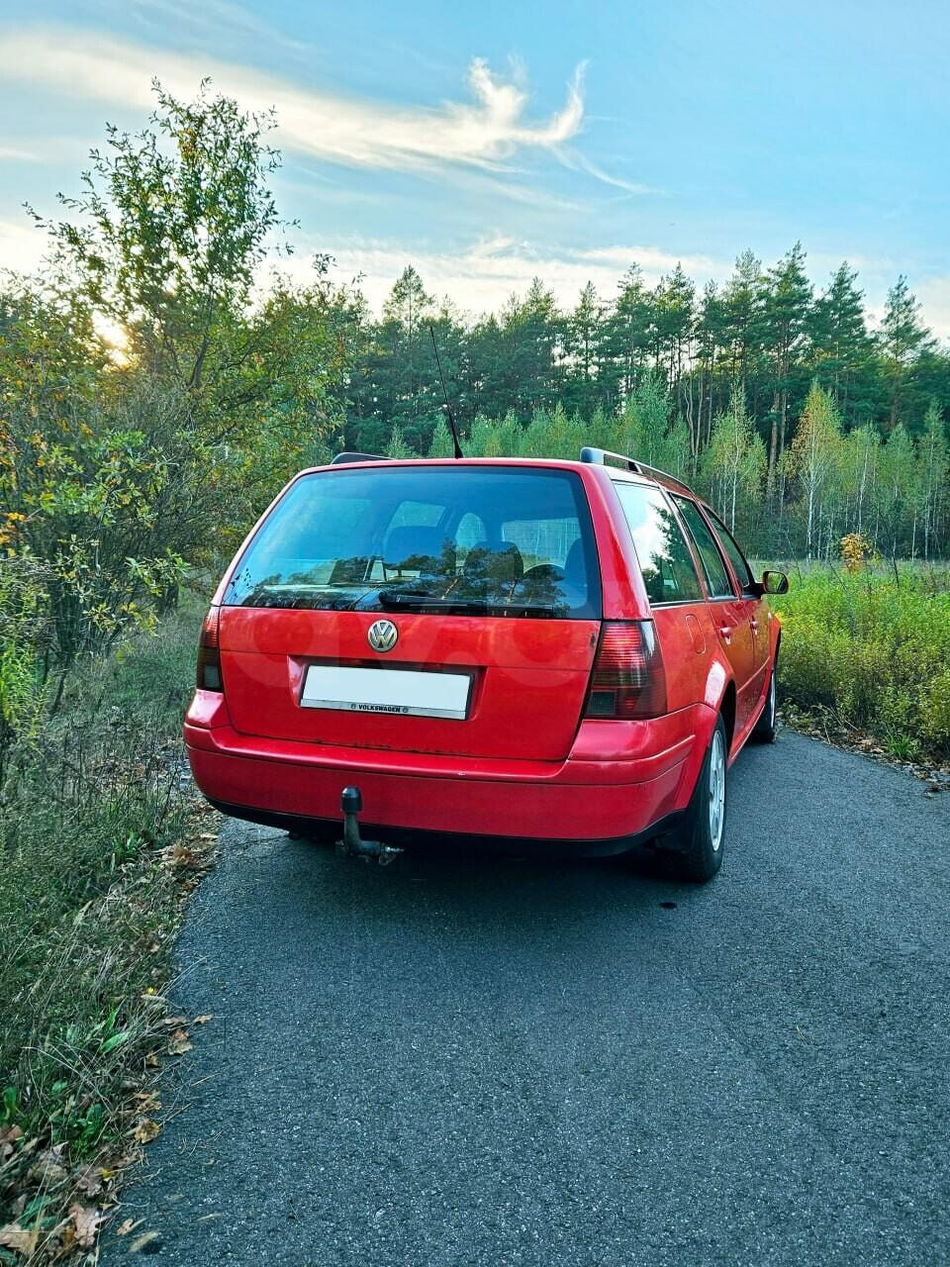Golf_1997-2006: (178, 453, 800, 881)
